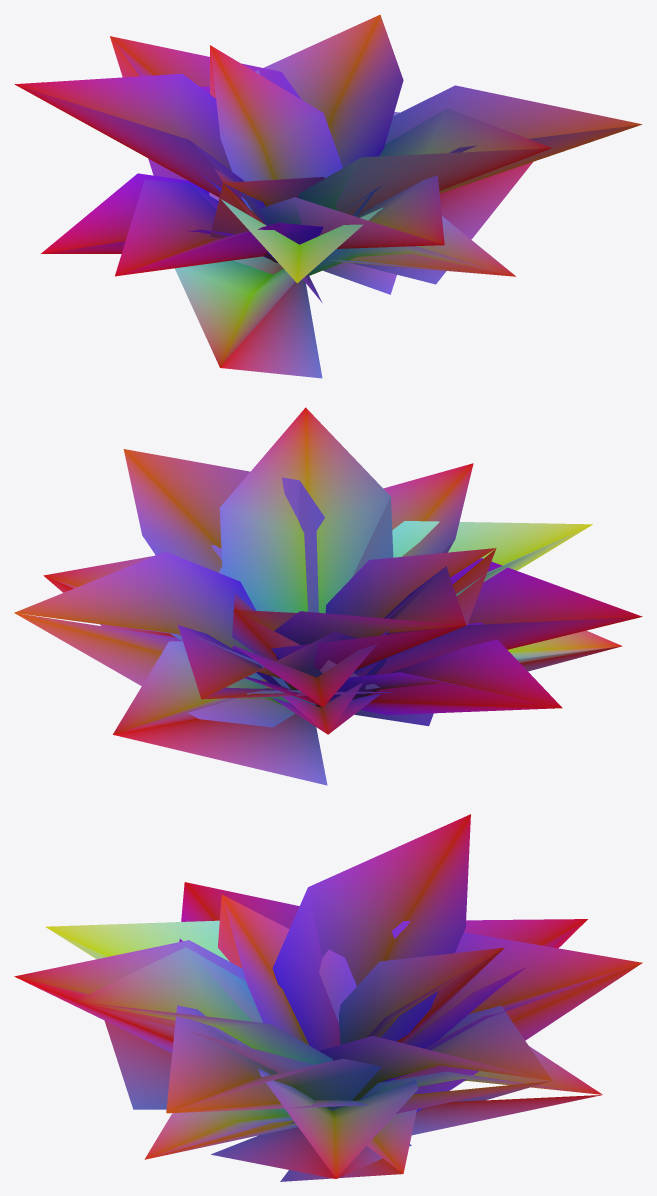
Rendered from woodfern_01_mid.dae.
3 renders of one model, top to bottom at view 1: azimuth 30°, elevation 25°; view 2: azimuth 150°, elevation 25°; view 3: azimuth 270°, elevation 25°, orthographic. The views are drawn at different scales.
Visible parts, largest first — view 1: fern_mid128, fern_mid8; view 2: fern_mid128, fern_mid8; view 3: fern_mid128, fern_mid8.
Part boxes in pixels (x1,y1,x2,y2): fern_mid128: [15, 14, 641, 367]; fern_mid8: [14, 37, 641, 378]; fern_mid128: [14, 407, 641, 734]; fern_mid8: [14, 481, 642, 785]; fern_mid128: [14, 814, 642, 1178]; fern_mid8: [15, 888, 642, 1181].
Bounding box in the file's own units: 1.76 × 1.77 × 0.6895.
